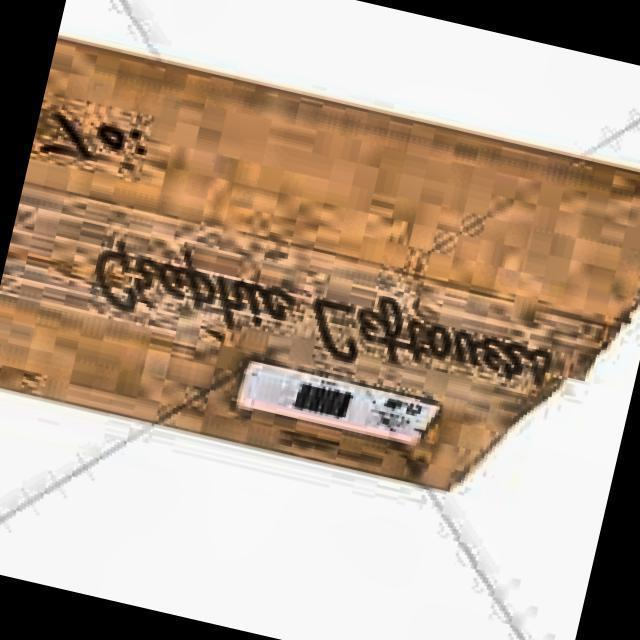cardboard: (0, 34, 640, 535)
